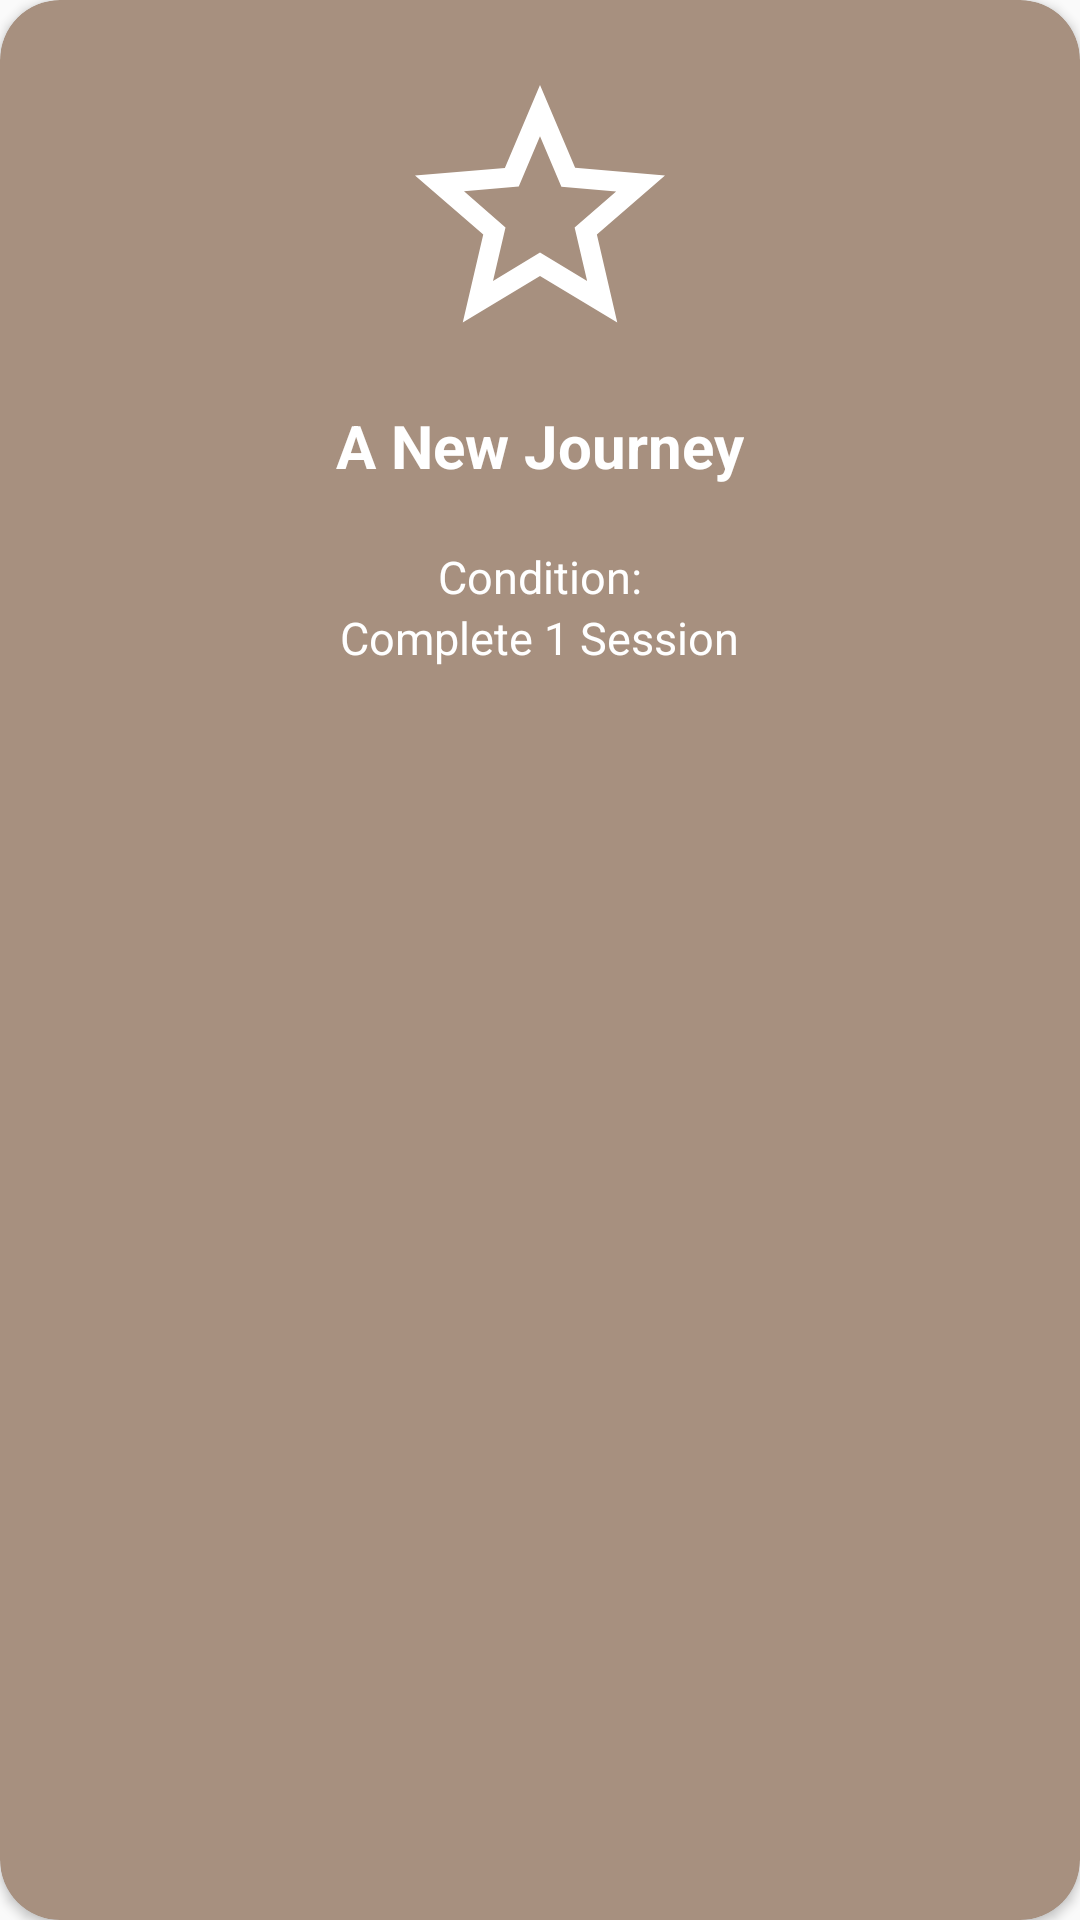

Where icons sit on this 1080*1920 app screen, as (x1, y1, x2, y2):
achievement: (415, 85, 665, 322)
